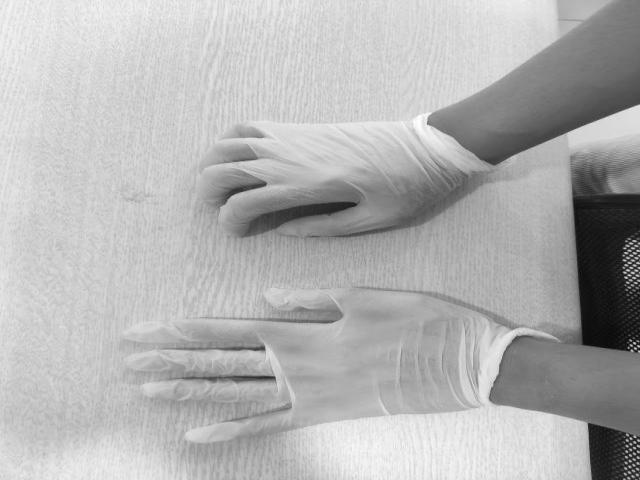gloved: (132, 285, 466, 443), (196, 119, 438, 238)
